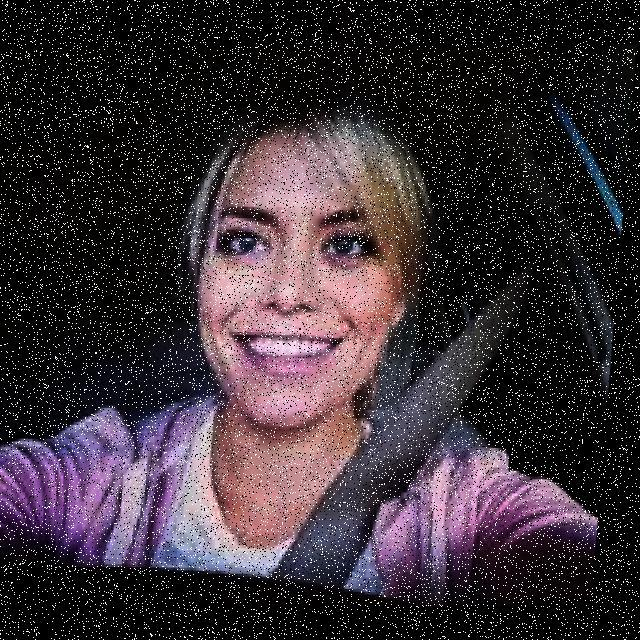seatbelt: (5, 372, 616, 610)
